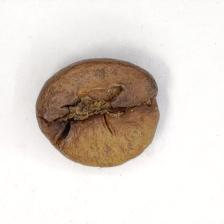NG: (48, 81, 147, 138)
